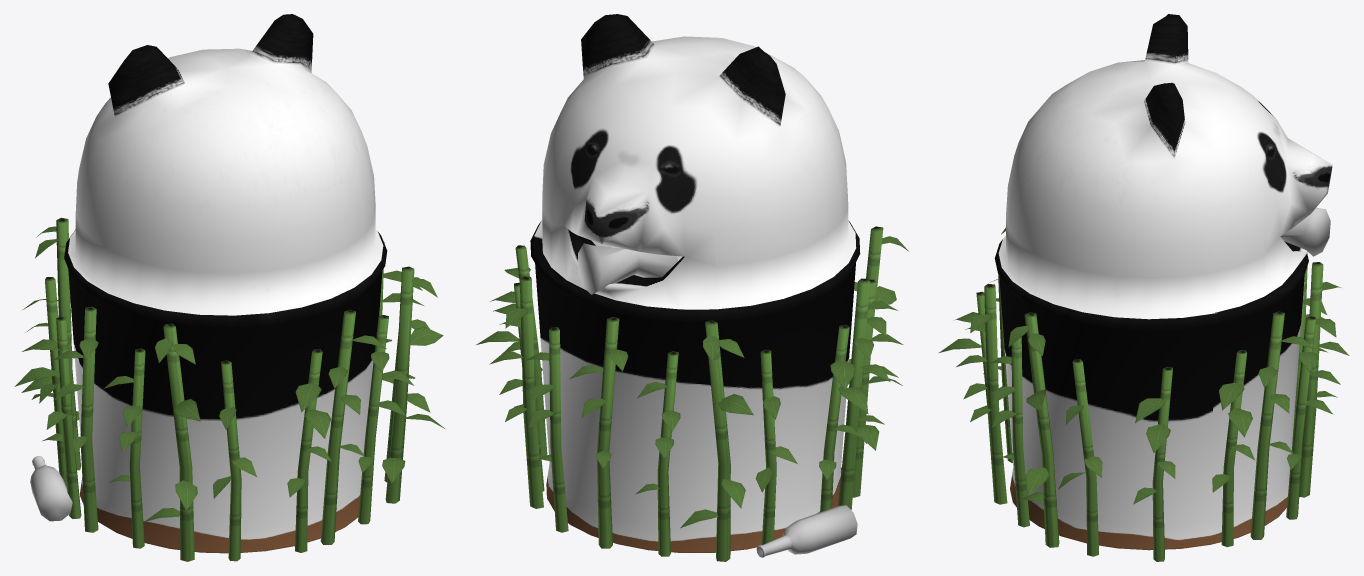
File: PandaBin01Trash.fbx
3 views of the same model, side by side, from view 1: azimuth 30°, elevation 25°; view 2: azimuth 150°, elevation 25°; view 3: azimuth 270°, elevation 25° (orthographic). The views are drawn at different scales.
Parts seen in each view (by area): view 1: Cylinder, Trash; view 2: Cylinder, Trash; view 3: Cylinder, Trash.
Part boxes in pixels (x1,y1,x2,y2): Cylinder: (14,14,444,561); Trash: (30,456,72,521); Cylinder: (476,14,908,561); Trash: (578,240,857,557); Cylinder: (939,14,1349,561); Trash: (1280,207,1330,256).
Size of the model in its own units: 107 by 119 by 101.
